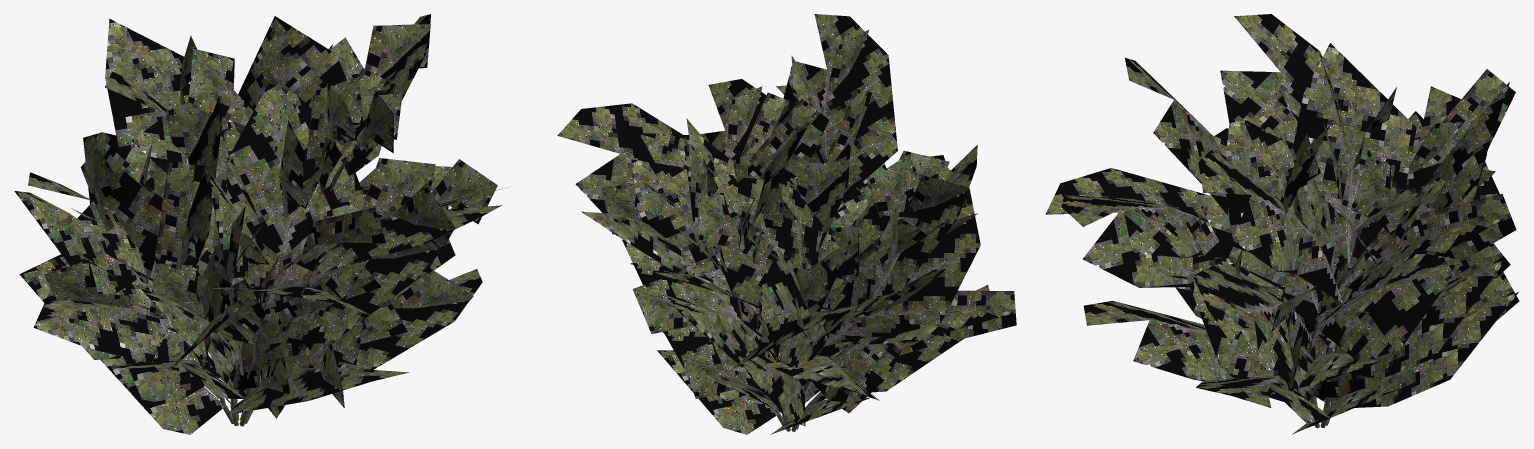
The model's file is bush_spicebush_a.glb.
The picture shows the model from 3 angles, left to right: view 1: azimuth 30°, elevation 25°; view 2: azimuth 150°, elevation 25°; view 3: azimuth 270°, elevation 25°; orthographic projection. The views are drawn at different scales.
Parts seen in each view (by area): view 1: bush_spicebush_a_LOD0; view 2: bush_spicebush_a_LOD0; view 3: bush_spicebush_a_LOD0.
Boxes of the visible parts, box(x1,y1,x2,y2) form: bush_spicebush_a_LOD0: box(14, 14, 508, 434); bush_spicebush_a_LOD0: box(557, 14, 1016, 434); bush_spicebush_a_LOD0: box(1045, 14, 1519, 434).
Bounding box in the file's own units: 4.88 × 3.89 × 4.35.
Materials: 1 (1 with a texture image).
